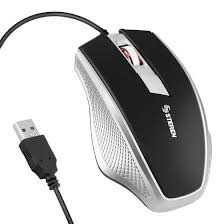mouse: (71, 23, 218, 216)
